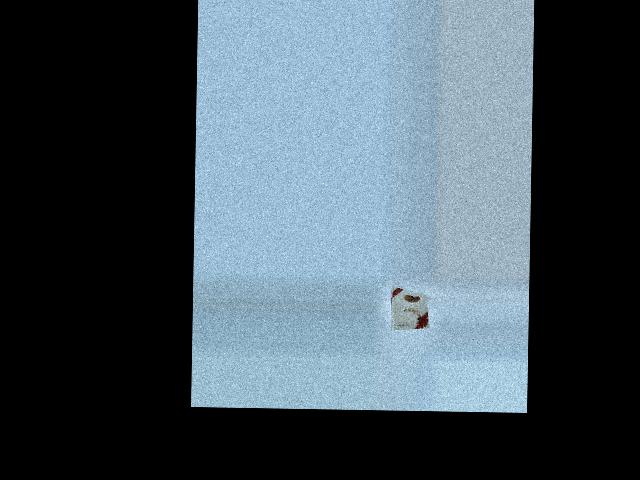chocolate: (381, 284, 430, 330)
